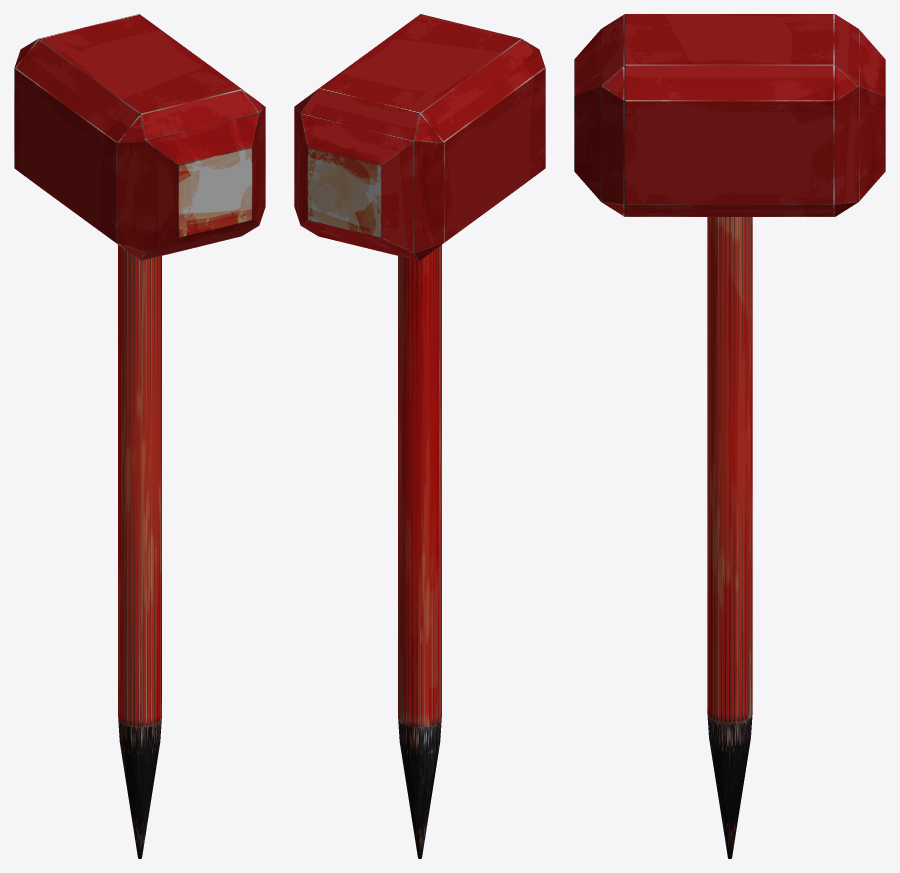
Rendered from hammer.obj.
The picture shows the model from 3 angles, left to right: view 1: azimuth 30°, elevation 25°; view 2: azimuth 150°, elevation 25°; view 3: azimuth 270°, elevation 25°; orthographic projection. The views are drawn at different scales.
Visible parts, largest first — view 1: 円柱; view 2: 円柱; view 3: 円柱.
Boxes of the visible parts, box(x1,y1,x2,y2) form: 円柱: box(14, 14, 265, 858); 円柱: box(294, 14, 545, 858); 円柱: box(574, 14, 885, 858).
Size of the model in its own units: 0.5912 by 3 by 1.04.
